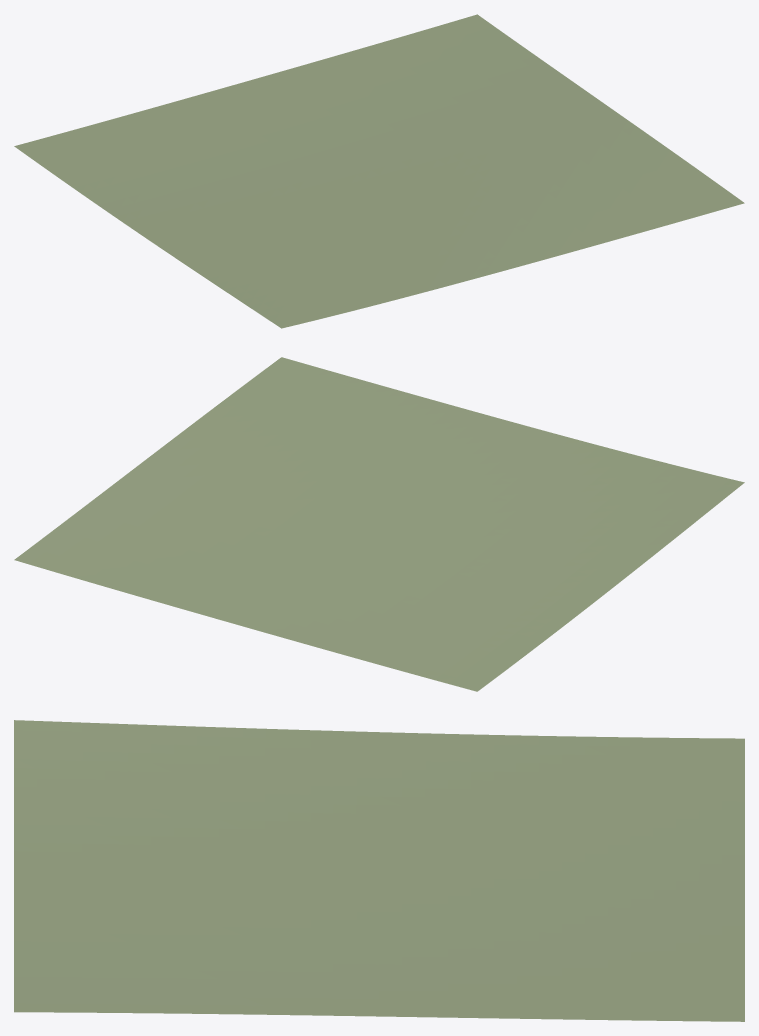
Rendered from expanse-19-15.glb.
The picture shows the model from 3 angles, top to bottom: view 1: azimuth 30°, elevation 25°; view 2: azimuth 150°, elevation 25°; view 3: azimuth 270°, elevation 25°; orthographic projection. The views are drawn at different scales.
Parts seen in each view (by area): view 1: expanse-19-15; view 2: expanse-19-15; view 3: expanse-19-15.
Part boxes in pixels (x1,y1,x2,y2): expanse-19-15: [14, 14, 744, 328]; expanse-19-15: [14, 357, 744, 691]; expanse-19-15: [14, 720, 744, 1021].
Bounding box in the file's own units: 256 × 13.62 × 256.
